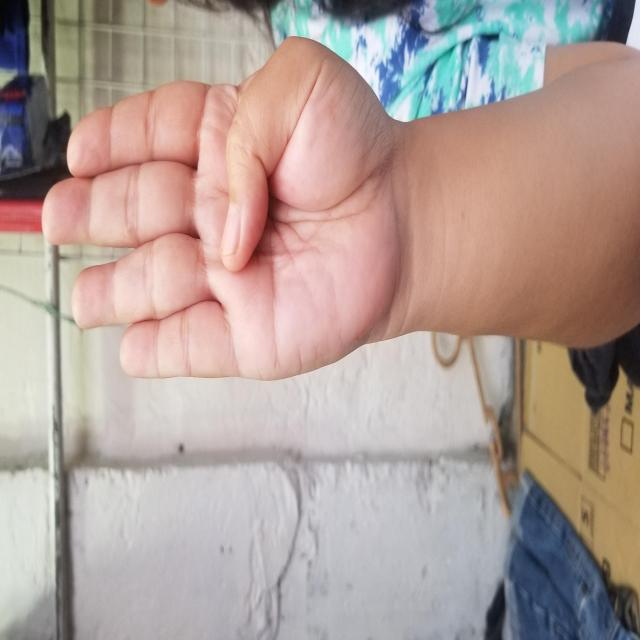B: (256, 41, 605, 402)
